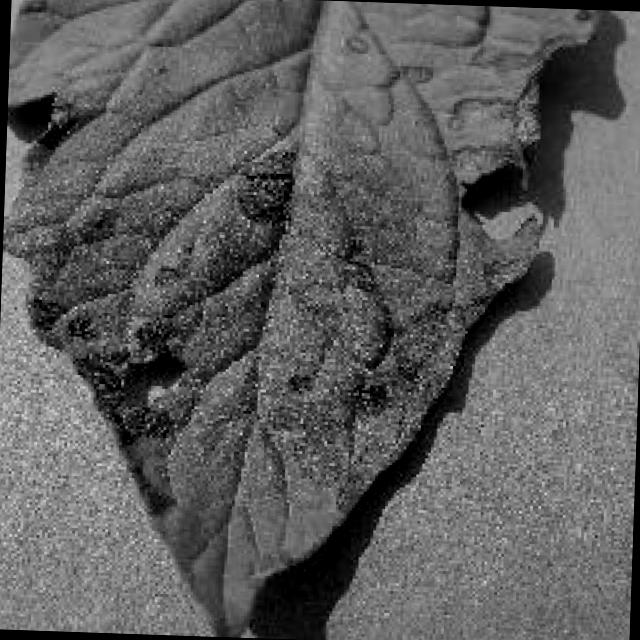leaf blight: (2, 0, 602, 637)
